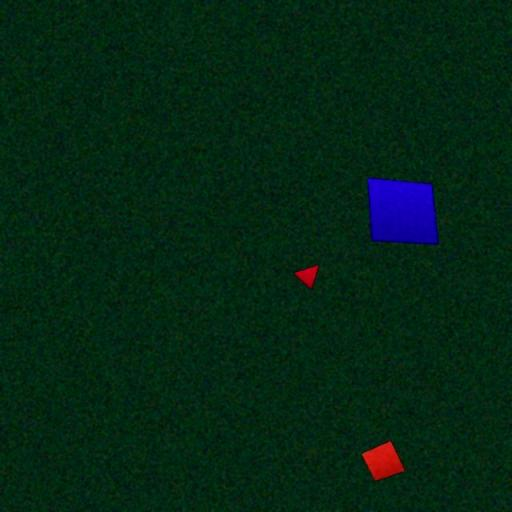BLUE_SQUARE: (366, 178, 440, 244)
RED_SQUARE: (360, 440, 406, 482)
